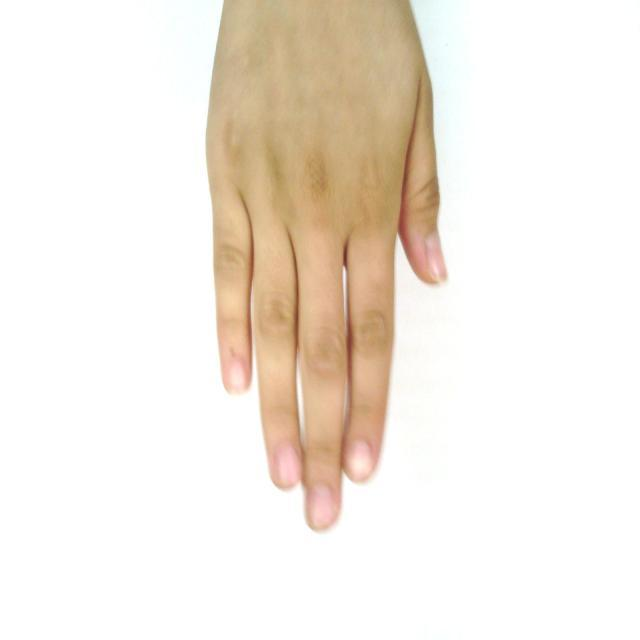Fingernail: (309, 485, 334, 528), (426, 234, 447, 281), (277, 445, 300, 487), (346, 443, 372, 480), (227, 360, 247, 393)
